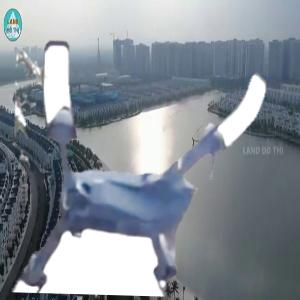drone: (13, 31, 280, 298)
